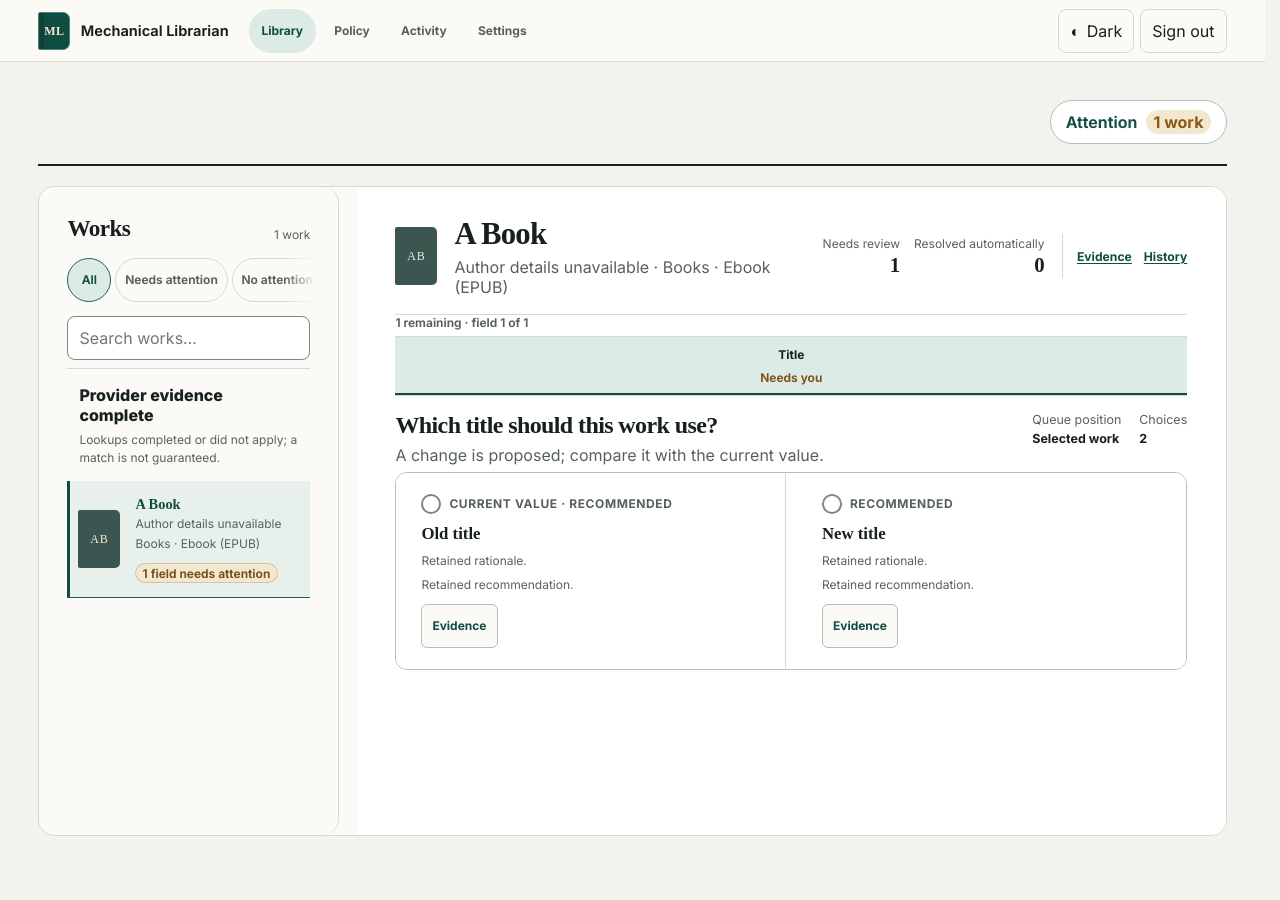
Scenario: Library review ownership › keeps named retained evidence optional, expandable, sticky, and part of its whole choice
Step 1. Click the button with aria-label "Evidence for Current value" → (459, 626), box [421,604,498,648]
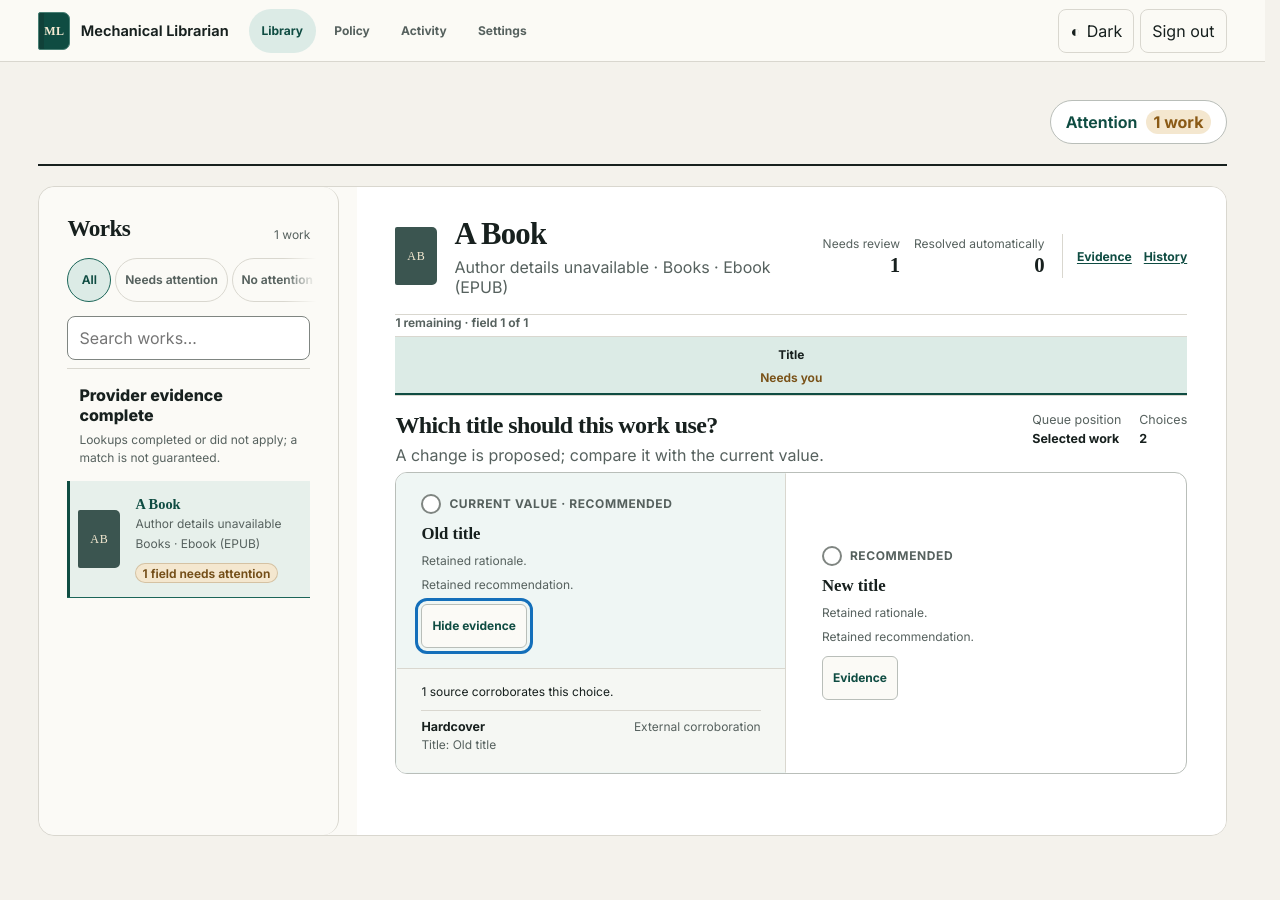
Result: the text "Hardcover" is shown at [421,719,485,734]
Result: the button with aria-label "Evidence for Current value" is expanded
Result: the button with aria-label "Evidence for Current value" reads "Hide evidence"
Step 2. Click the button with aria-label "Evidence for Current value" → (474, 626), box [421,604,527,648]
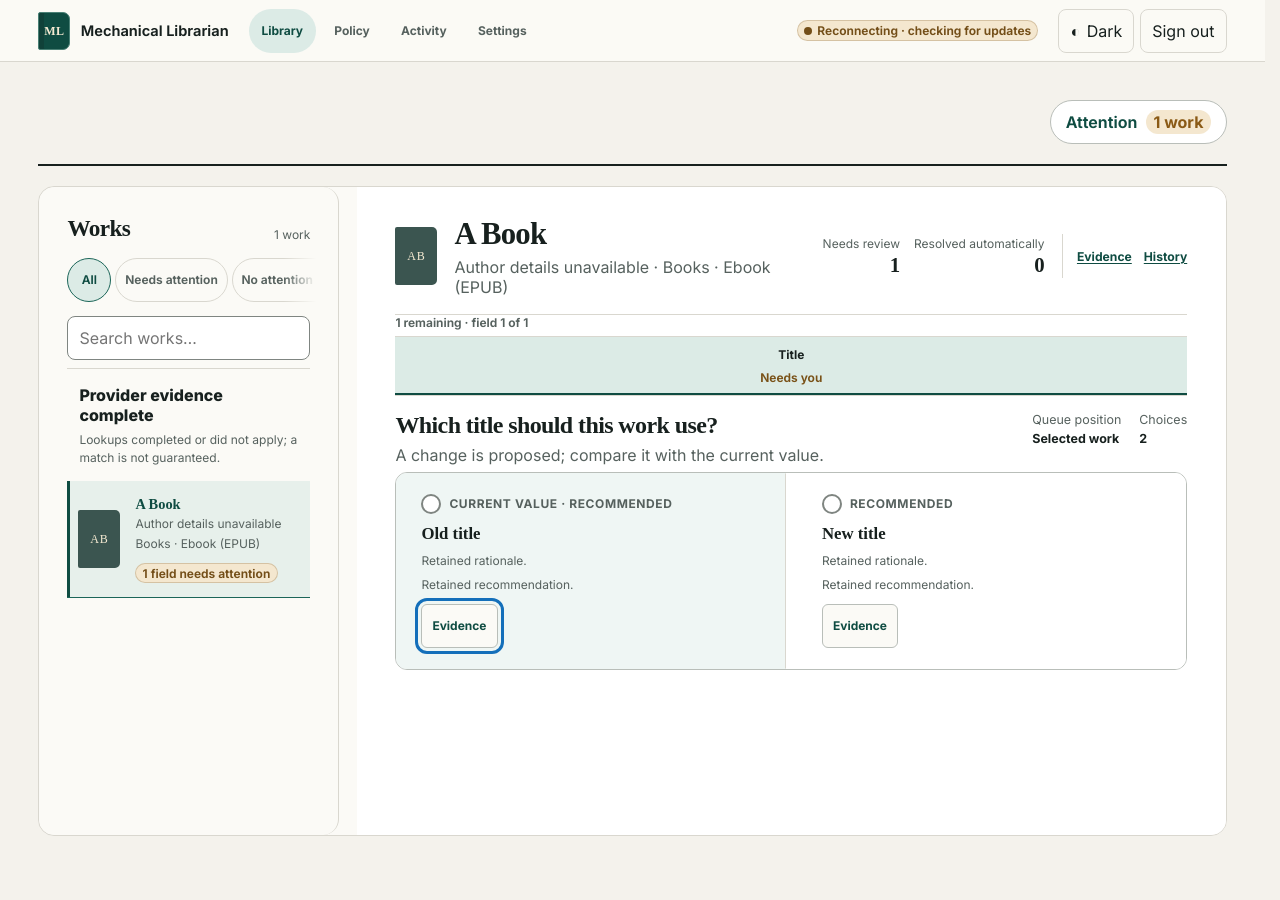
Result: the button with aria-label "Evidence for Current value" is collapsed at [421,604,498,648]
